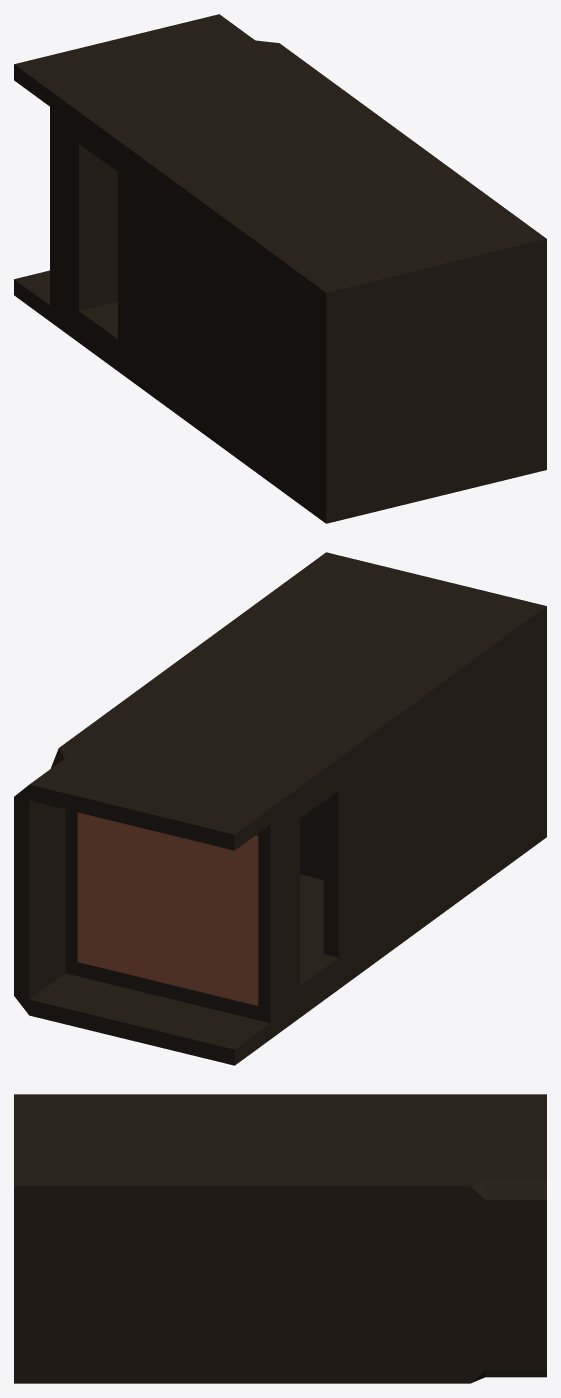
The model's file is Trash.fbx.
The picture shows the model from 3 angles, top to bottom: view 1: azimuth 30°, elevation 25°; view 2: azimuth 150°, elevation 25°; view 3: azimuth 270°, elevation 25°; orthographic projection. The views are drawn at different scales.
Parts seen in each view (by area): view 1: Trash; view 2: Trash; view 3: Trash.
Part boxes in pixels (x1,y1,x2,y2): Trash: [14, 14, 546, 523]; Trash: [14, 552, 546, 1065]; Trash: [14, 1094, 546, 1383].
Bounding box in the file's own units: 57.53 × 57.53 × 141.
